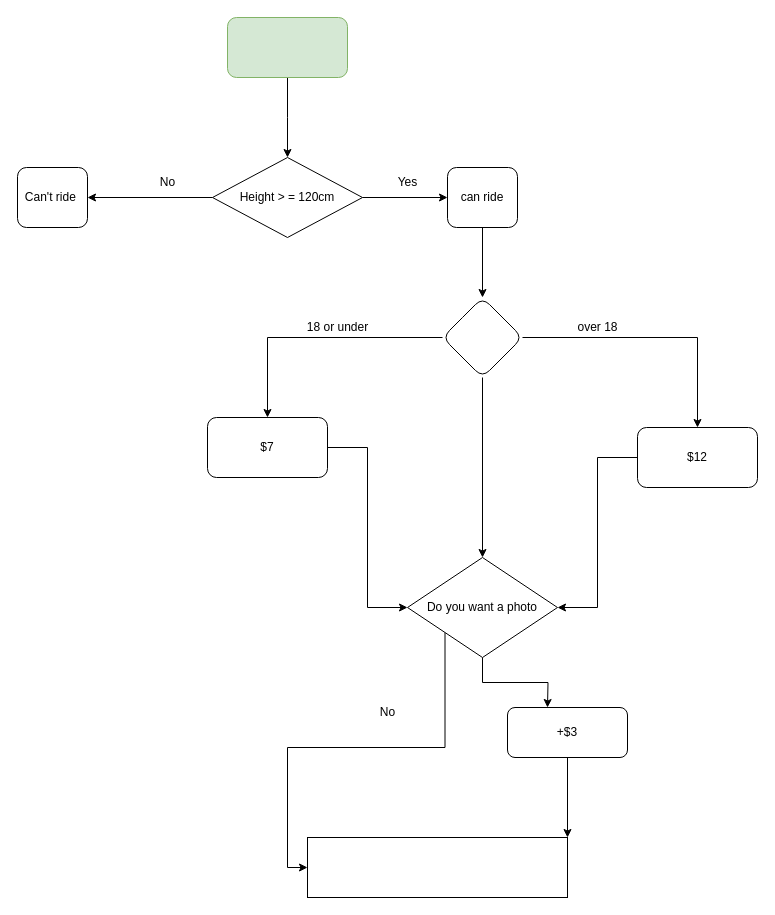
The diagram is 775 pixels wide and 915 high, and some of its shapes have lost their labels. Here are the shapes that lost their labels. From the top down, the centre of each, then its label:
(x=287, y=47): start
(x=482, y=337): age
(x=437, y=867): The total bill is $X
